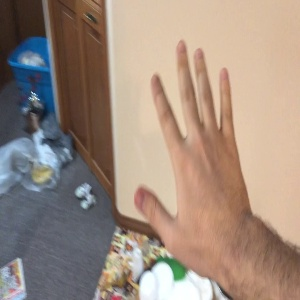hand: (134, 40, 251, 263)
